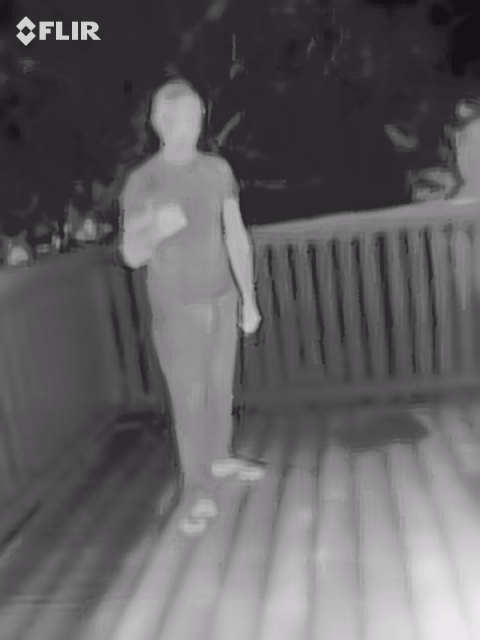head: (148, 82, 204, 141)
